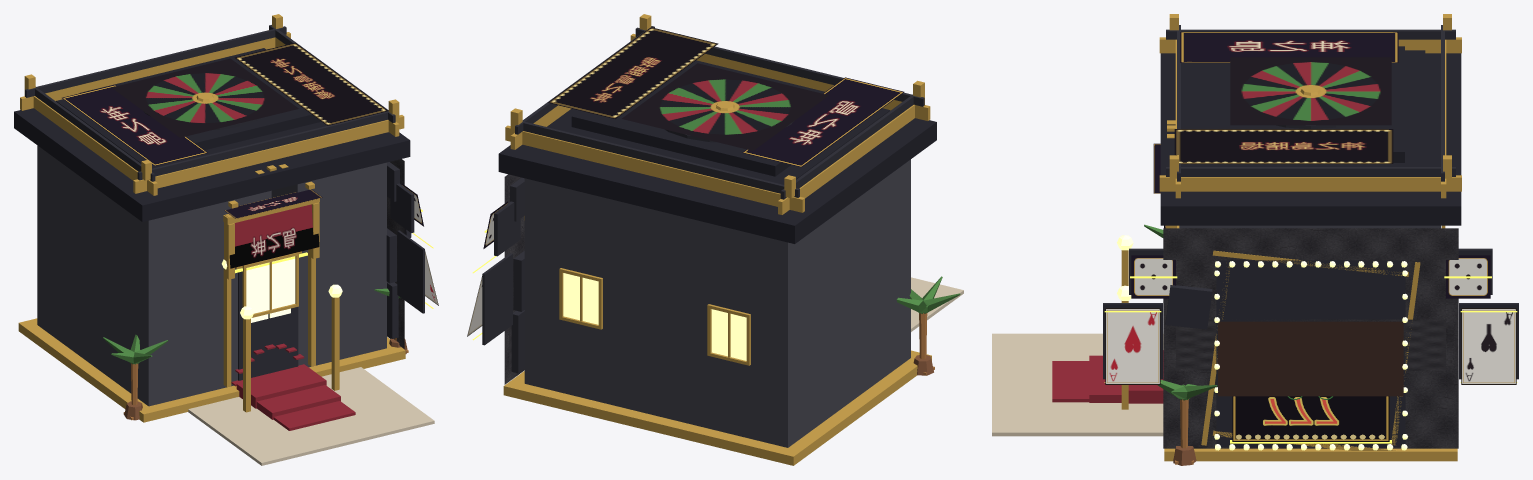
The model's file is casino.glb.
3 views of the same model, side by side, from view 1: azimuth 30°, elevation 25°; view 2: azimuth 150°, elevation 25°; view 3: azimuth 270°, elevation 25° (orthographic). The views are drawn at different scales.
Parts seen in each view (by area): view 1: walls, roof, plaza, roof_deco, roulette, entry_arch, base, door, windows_glow, poker_cards, lamp_posts, palms (+3 smaller); view 2: walls, roof, roof_deco, roulette, base, windows_glow, poker_cards, frames, palms, dice, stone_facade, plaza; view 3: roof, stone_facade, marquee_tower, plaza, sign_face, roof_deco, roulette, poker_cards, seven_sign, dice, base, marquee_lamps (+3 smaller).
Part boxes in pixels (x1,y1,x2,y2): walls: (37, 145, 399, 406); roof: (14, 14, 410, 221); plaza: (188, 343, 434, 465); roof_deco: (62, 42, 388, 165); roulette: (111, 58, 298, 137); entry_arch: (223, 164, 322, 387); base: (18, 318, 405, 422); door: (235, 251, 301, 380); windows_glow: (246, 256, 295, 322); poker_cards: (397, 230, 438, 313); lamp_posts: (243, 297, 339, 412); palms: (103, 288, 408, 420); walls: (510, 159, 910, 447); roof: (498, 14, 936, 243); roof_deco: (548, 27, 903, 167); roulette: (622, 63, 828, 150); base: (503, 350, 931, 465); windows_glow: (563, 273, 746, 360); poker_cards: (467, 253, 512, 345); frames: (559, 268, 750, 365); palms: (896, 276, 960, 375); dice: (483, 201, 520, 256); stone_facade: (504, 174, 524, 384); plaza: (911, 277, 963, 331); roof: (1159, 14, 1461, 225); stone_facade: (1163, 228, 1458, 448); marquee_tower: (1165, 250, 1420, 450); plaza: (992, 333, 1163, 436); sign_face: (1218, 321, 1403, 396); roof_deco: (1174, 32, 1398, 163); roulette: (1230, 57, 1391, 128); poker_cards: (1103, 303, 1518, 384); seven_sign: (1232, 396, 1389, 441); dice: (1129, 248, 1492, 298); base: (1164, 448, 1457, 461); marquee_lamps: (1214, 261, 1407, 450).
Size of the model in its own units: 5.65 by 4.31 by 6.87.
Materials: 22 (9 with a texture image).
